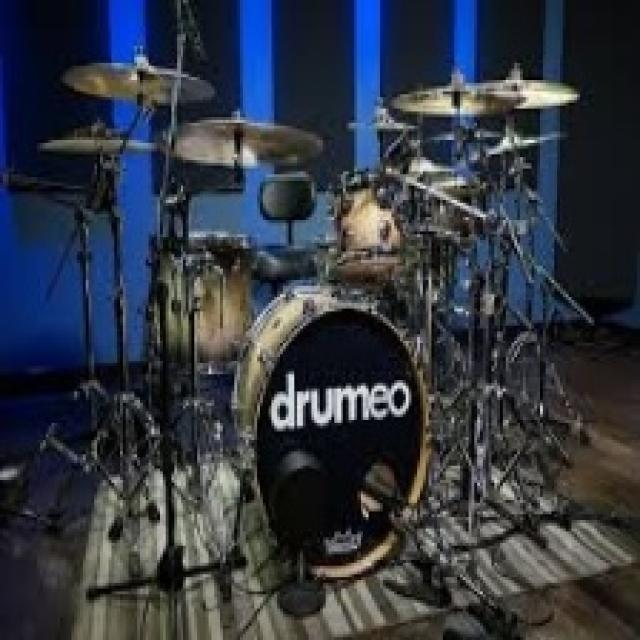drums: (34, 49, 582, 588)
